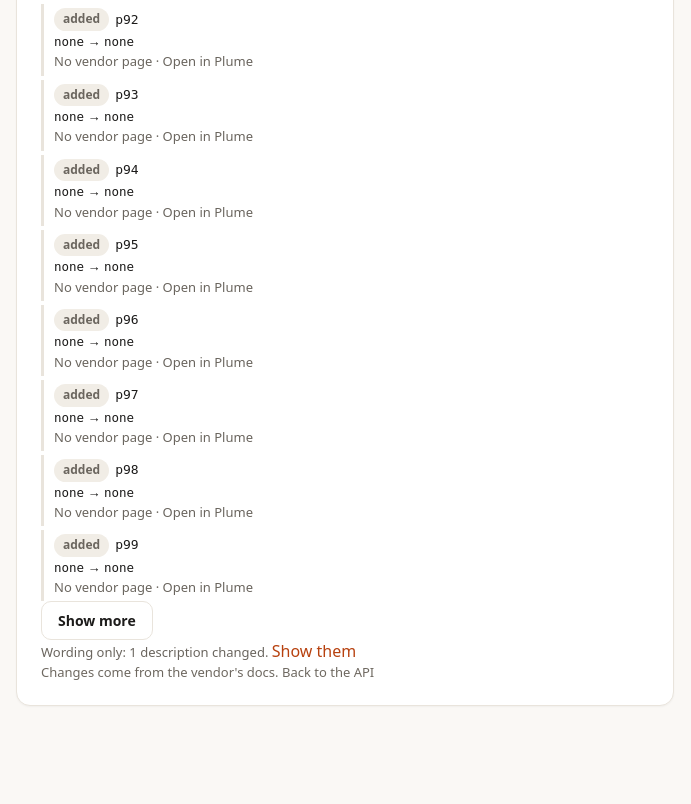
Scenario: the Changes tab › a kind group is one server request with a comma list, and "Show more" pages the same selection
The width and height of the screenshot is (691, 804).
(page scrolled)
Click the button "Show more".
click(97, 621)  # box [41,601,153,640]
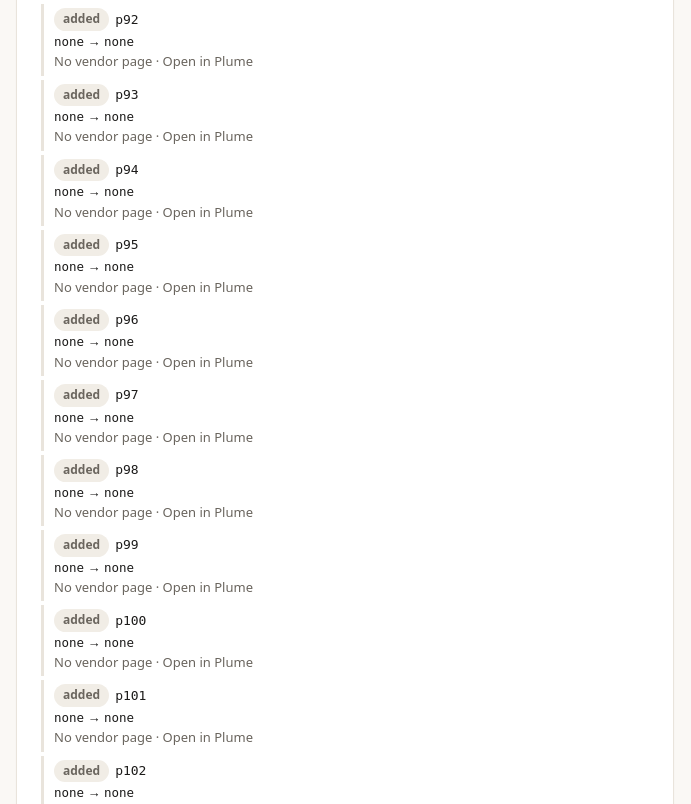
Check: the button "Show more" is gone
